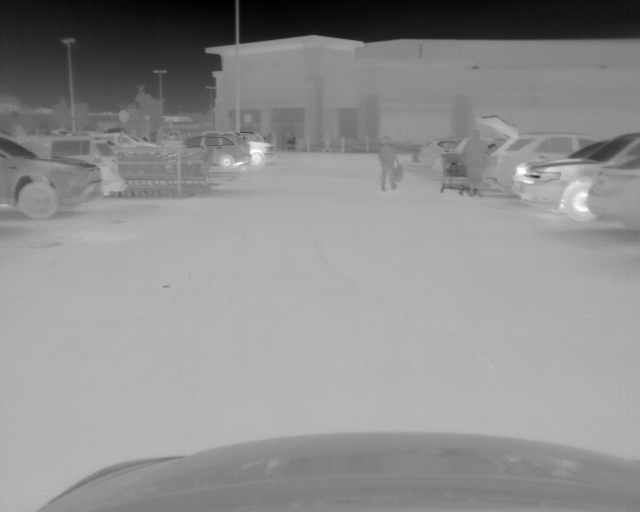car: (478, 114, 605, 190), (513, 132, 614, 221), (1, 141, 102, 219), (15, 138, 125, 196), (590, 156, 640, 228), (181, 133, 251, 169), (419, 137, 459, 167), (247, 139, 275, 169)
people: (379, 135, 401, 191)
